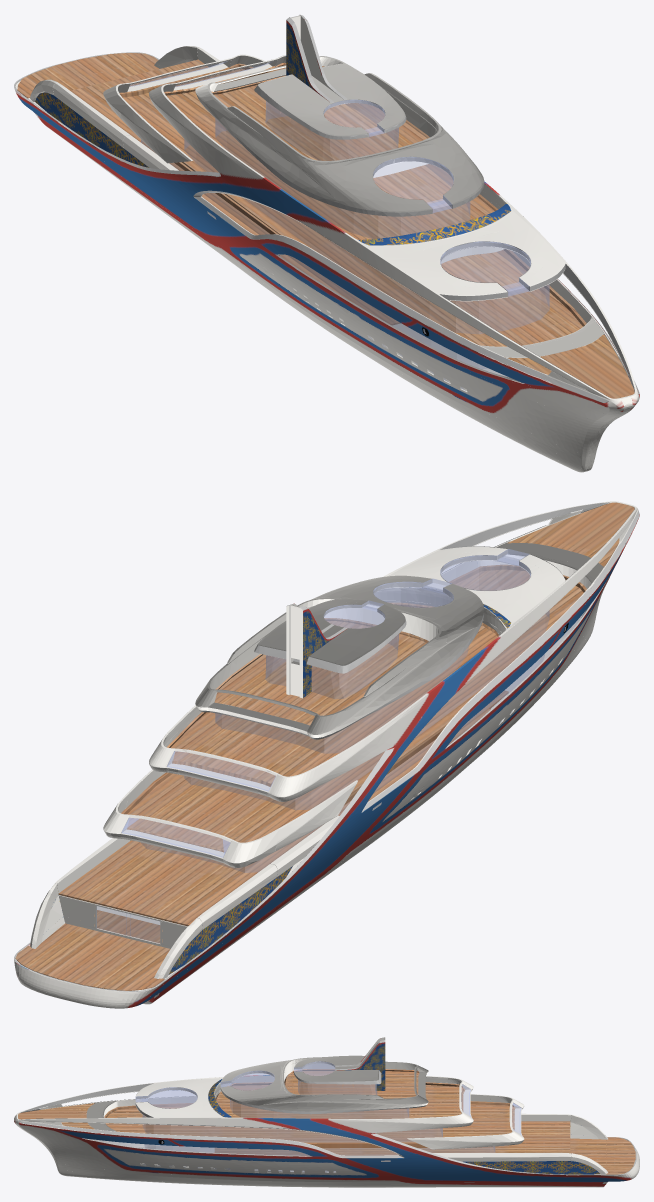
Rendered from B_Ship_05.fbx.
The picture shows the model from 3 angles, top to bottom: view 1: azimuth 30°, elevation 25°; view 2: azimuth 150°, elevation 25°; view 3: azimuth 270°, elevation 25°; orthographic projection. The views are drawn at different scales.
Visible parts, largest first — view 1: B_Boat, B_Boat2, B_Boat1, B_Boat4, B_Boat3; view 2: B_Boat, B_Boat2, B_Boat1, B_Boat4, B_Boat3; view 3: B_Boat, B_Boat2, B_Boat1, B_Boat4, B_Boat3.
Boxes of the visible parts, <box> form: B_Boat: <box>14,15,639,472</box>; B_Boat2: <box>17,53,634,398</box>; B_Boat1: <box>129,61,549,390</box>; B_Boat4: <box>14,14,639,402</box>; B_Boat3: <box>35,20,511,245</box>; B_Boat: <box>14,501,639,1008</box>; B_Boat2: <box>15,502,634,990</box>; B_Boat1: <box>96,549,589,943</box>; B_Boat4: <box>14,502,639,991</box>; B_Boat3: <box>55,604,510,974</box>; B_Boat: <box>14,1037,639,1187</box>; B_Boat2: <box>18,1069,635,1174</box>; B_Boat1: <box>97,1061,521,1172</box>; B_Boat4: <box>19,1040,636,1175</box>; B_Boat3: <box>208,1042,600,1174</box>.
Size of the model in its own units: 1791 by 2401 by 9952.
Materials: 5 (3 with a texture image).
